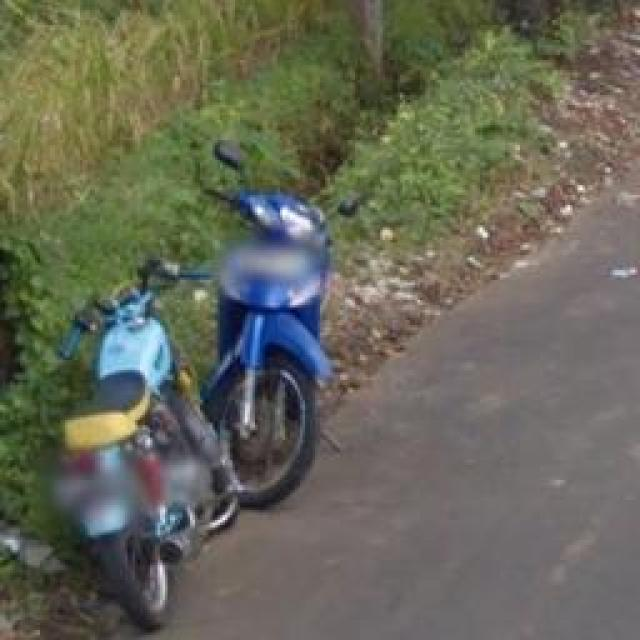Motor: (52, 258, 240, 630), (200, 148, 332, 508)
